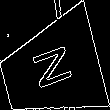N_W: (26, 43, 76, 96)
